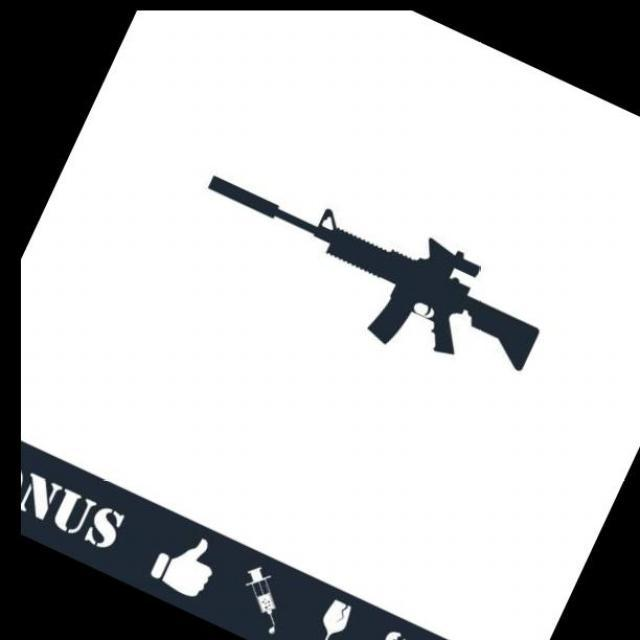weapon: (205, 175, 541, 374)
